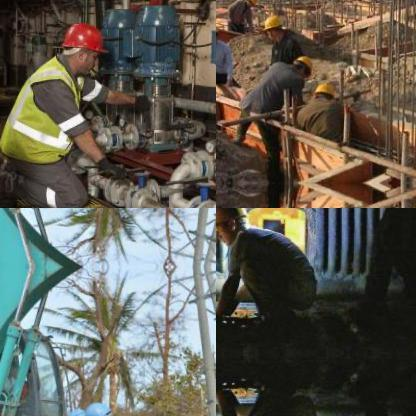Helmet: (56, 18, 106, 74), (216, 208, 247, 241), (260, 11, 288, 41), (286, 52, 316, 78), (310, 80, 336, 107), (77, 401, 112, 415), (62, 402, 88, 415), (244, 0, 259, 9)
